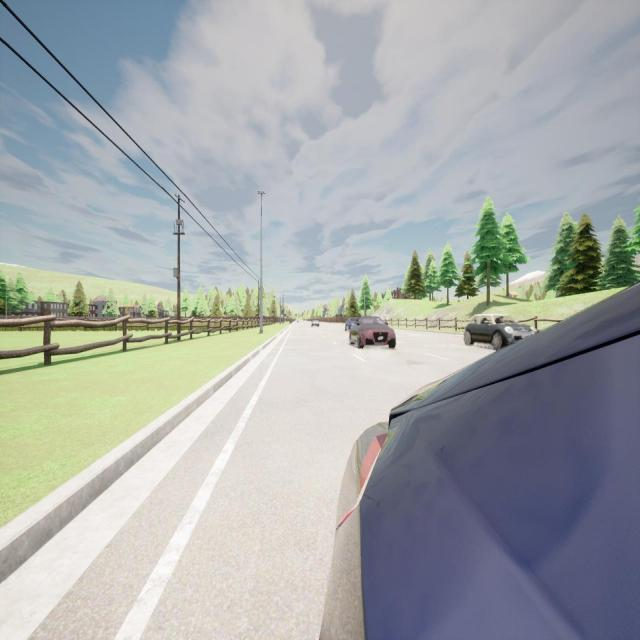Vehicle: (320, 283, 640, 638), (464, 314, 536, 349), (349, 317, 396, 349), (344, 317, 363, 331), (311, 319, 319, 327), (297, 321, 299, 323)
